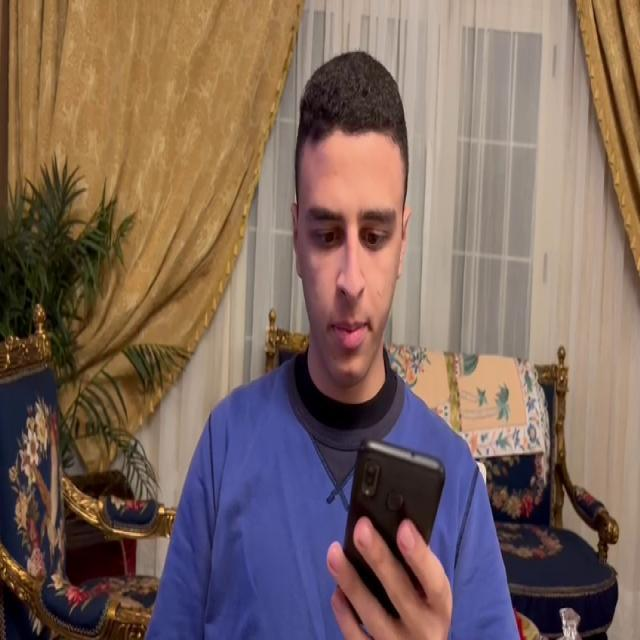phone: (346, 443, 444, 631)
